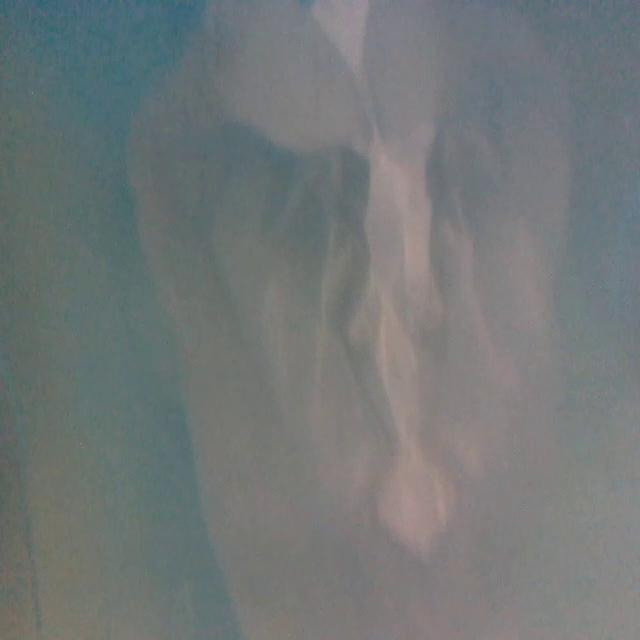plastic bags: (134, 2, 574, 636)
